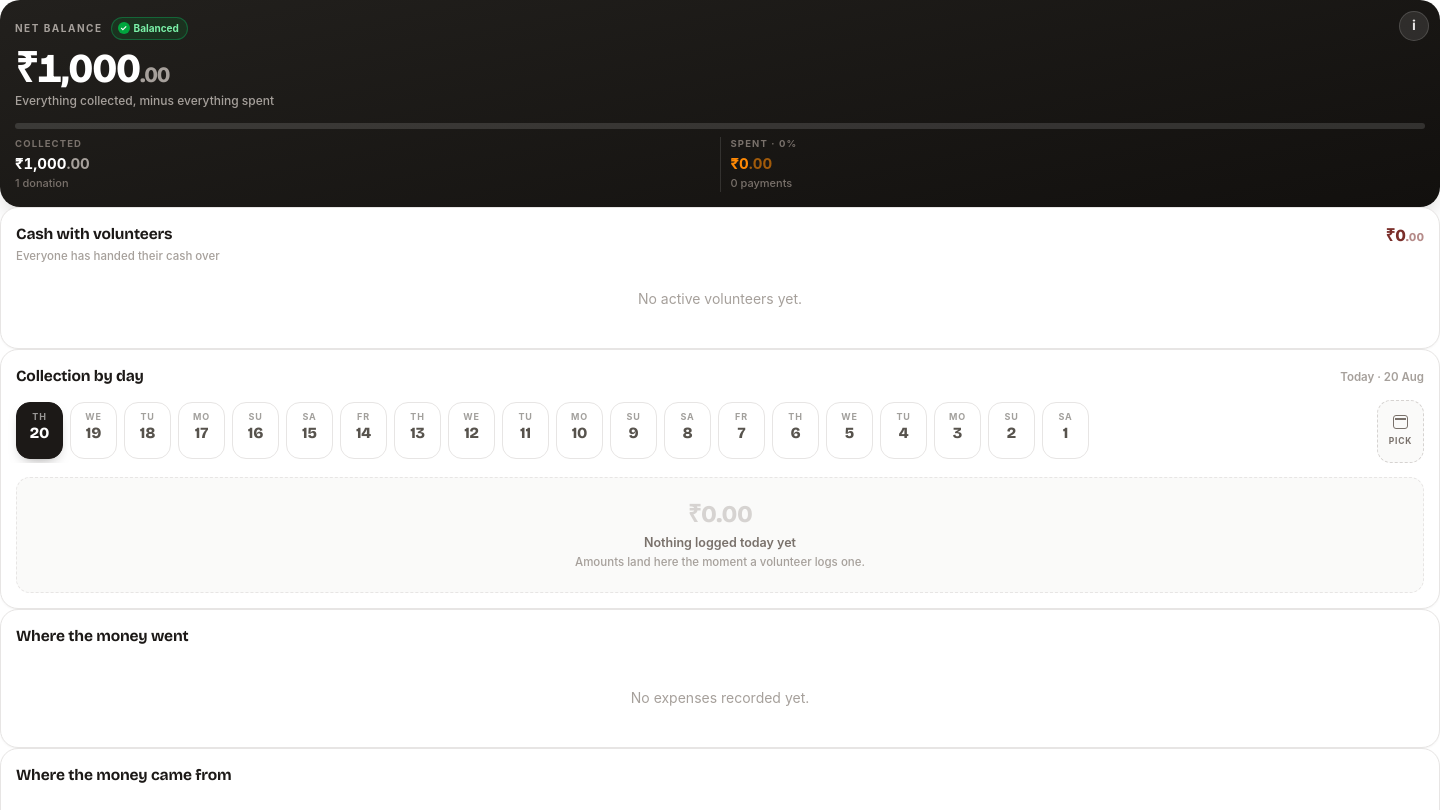
Test case: MasterLedgerContent — the Overview tab › explains the arithmetic behind the hero in a sheet, not as a printed equation
expect the text "Net balance" is shown: met, box [15, 20, 102, 36]
expect the text "What we hold right now" is not shown: met
Step 1. Click the button named "How the net balance checks out" → (1414, 26), box [1399, 11, 1429, 41]
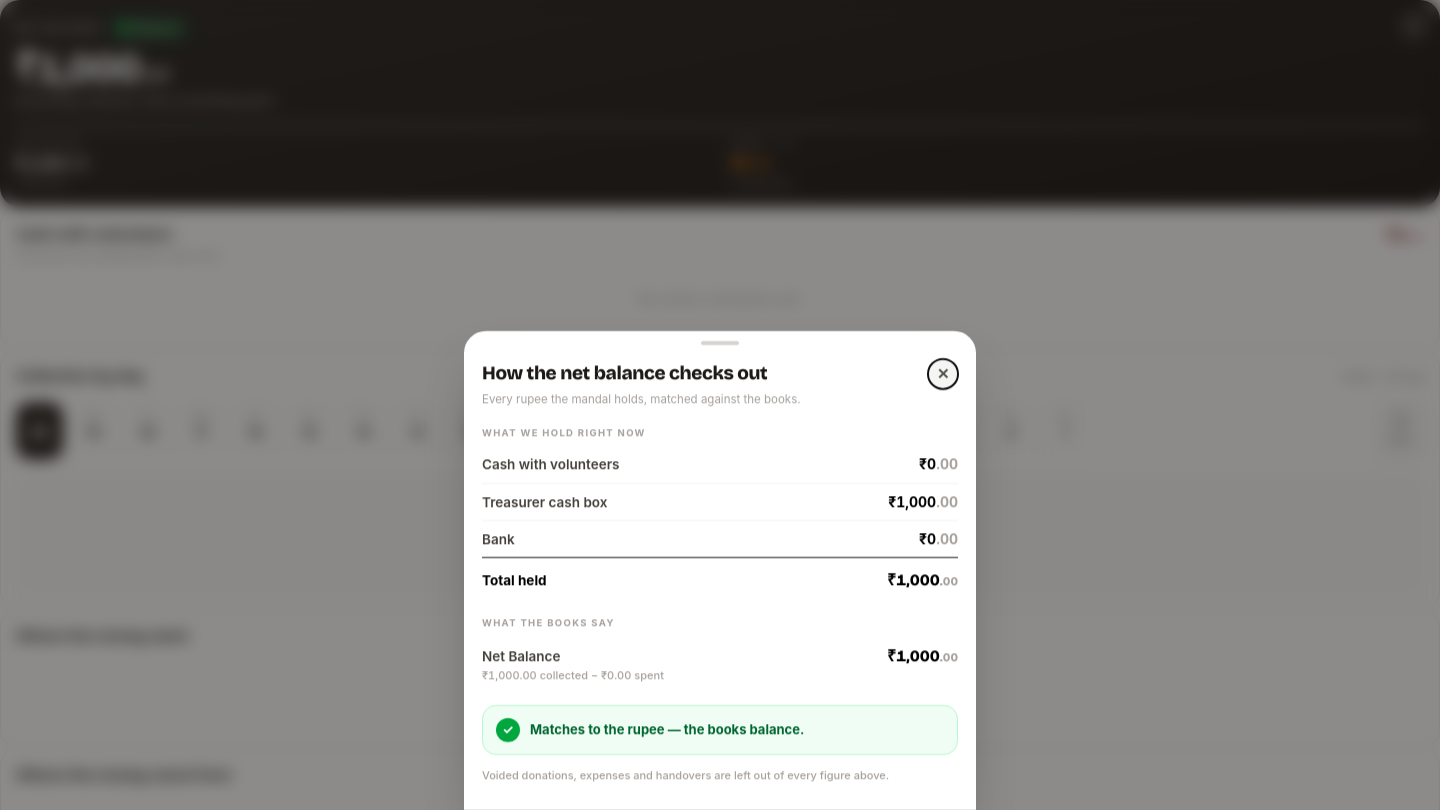
expect the heading "How the net balance checks out" is shown: met, box [482, 361, 767, 384]
expect the text "What we hold right now" is shown: met, box [482, 428, 646, 438]
expect the text "Cash with volunteers" is shown: met, box [482, 457, 619, 473]
